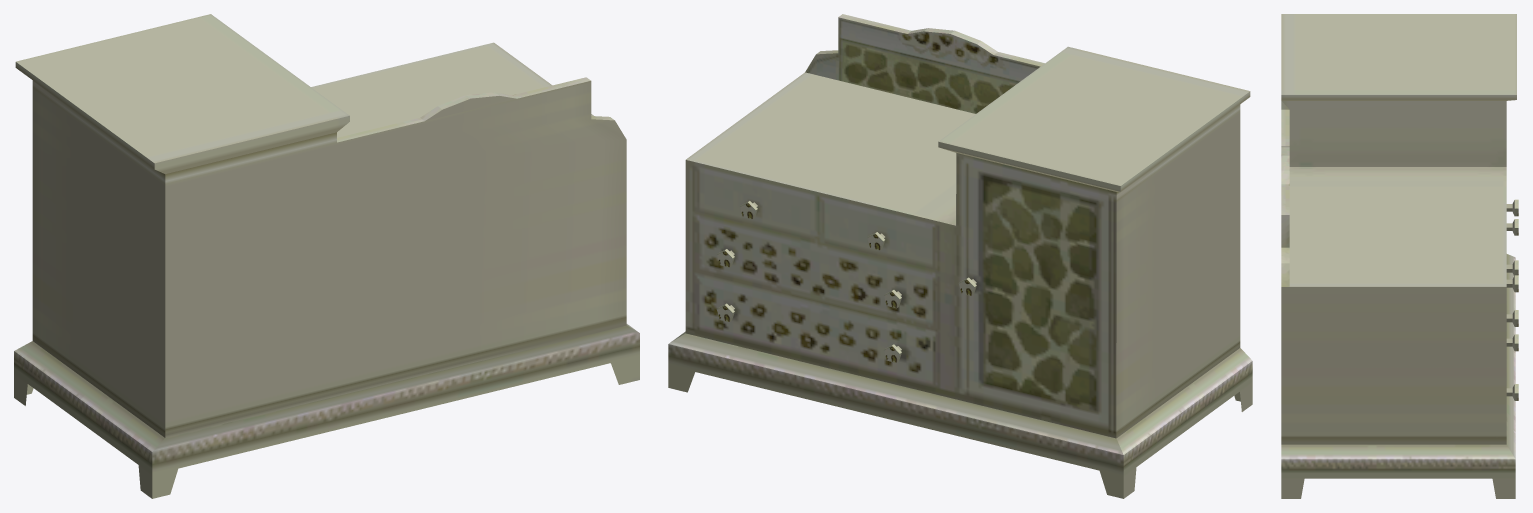
File: furni_0200127_01.FBX
The picture shows the model from 3 angles, left to right: view 1: azimuth 30°, elevation 25°; view 2: azimuth 150°, elevation 25°; view 3: azimuth 270°, elevation 25°; orthographic projection. The views are drawn at different scales.
Visible parts, largest first — view 1: furni_0200127_01; view 2: furni_0200127_01; view 3: furni_0200127_01.
Part boxes in pixels (<box>): furni_0200127_01: <box>14,14,639,498</box>; furni_0200127_01: <box>668,14,1252,498</box>; furni_0200127_01: <box>1281,14,1518,498</box>.
Bounding box in the file's own units: 160 × 105 × 79.45.
